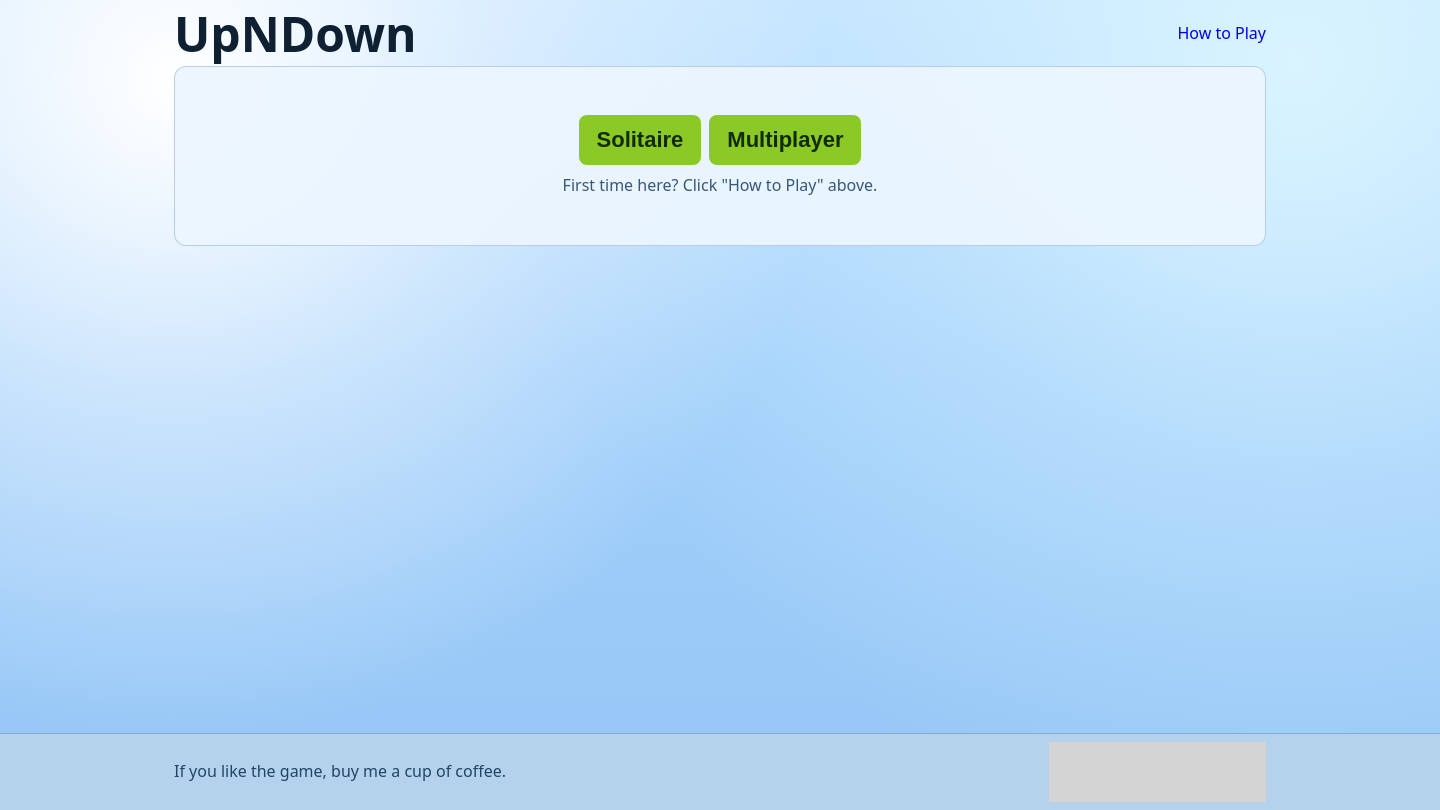
Scenario: multiplayer ack handling › shows host-ended modal and returns to landing only after acknowledgement
Click the button with test id "mode-multiplayer": coordinates (785, 140) [709, 115, 861, 165]
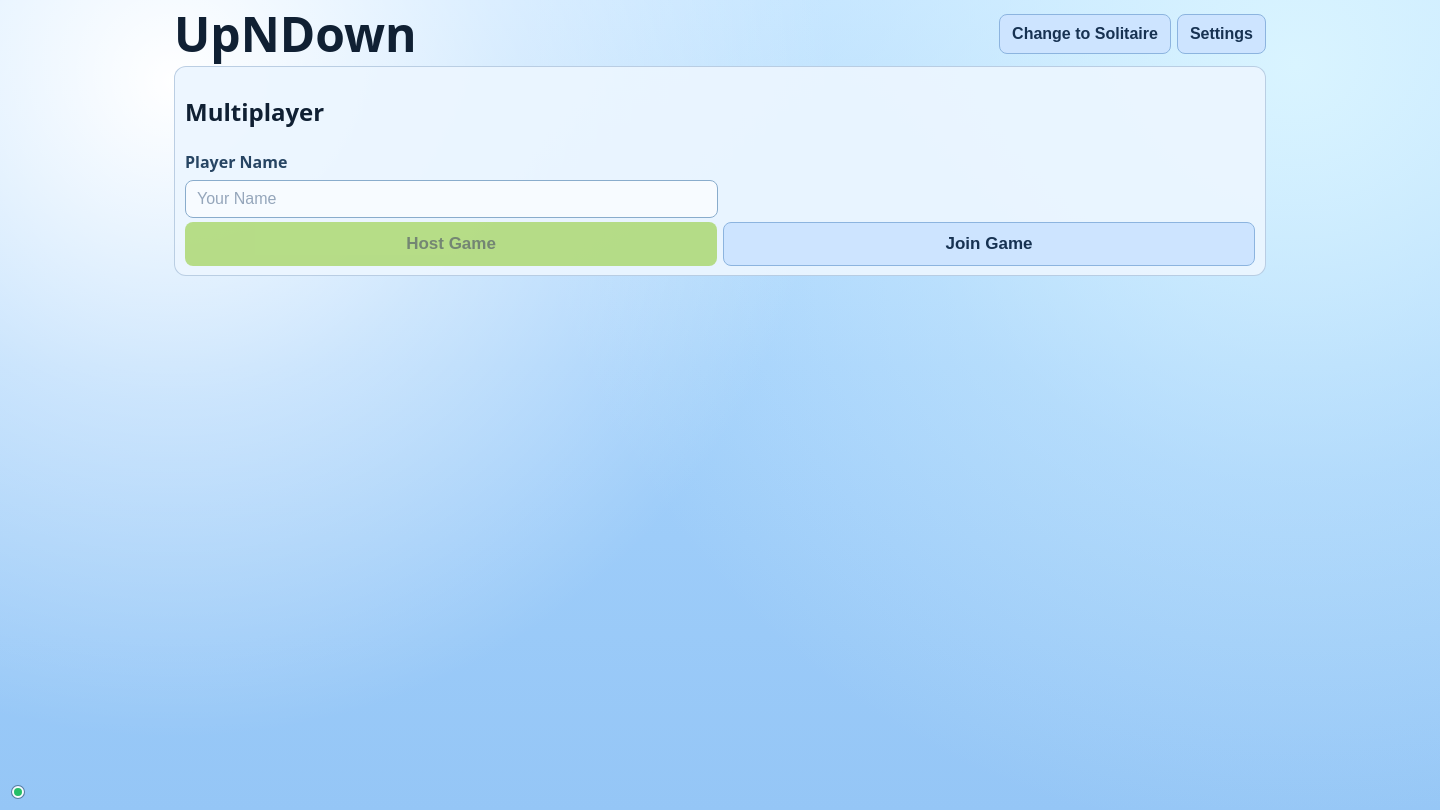
In the field labelled "Player Name": coordinates (452, 199) [185, 180, 718, 218], type "Alex"
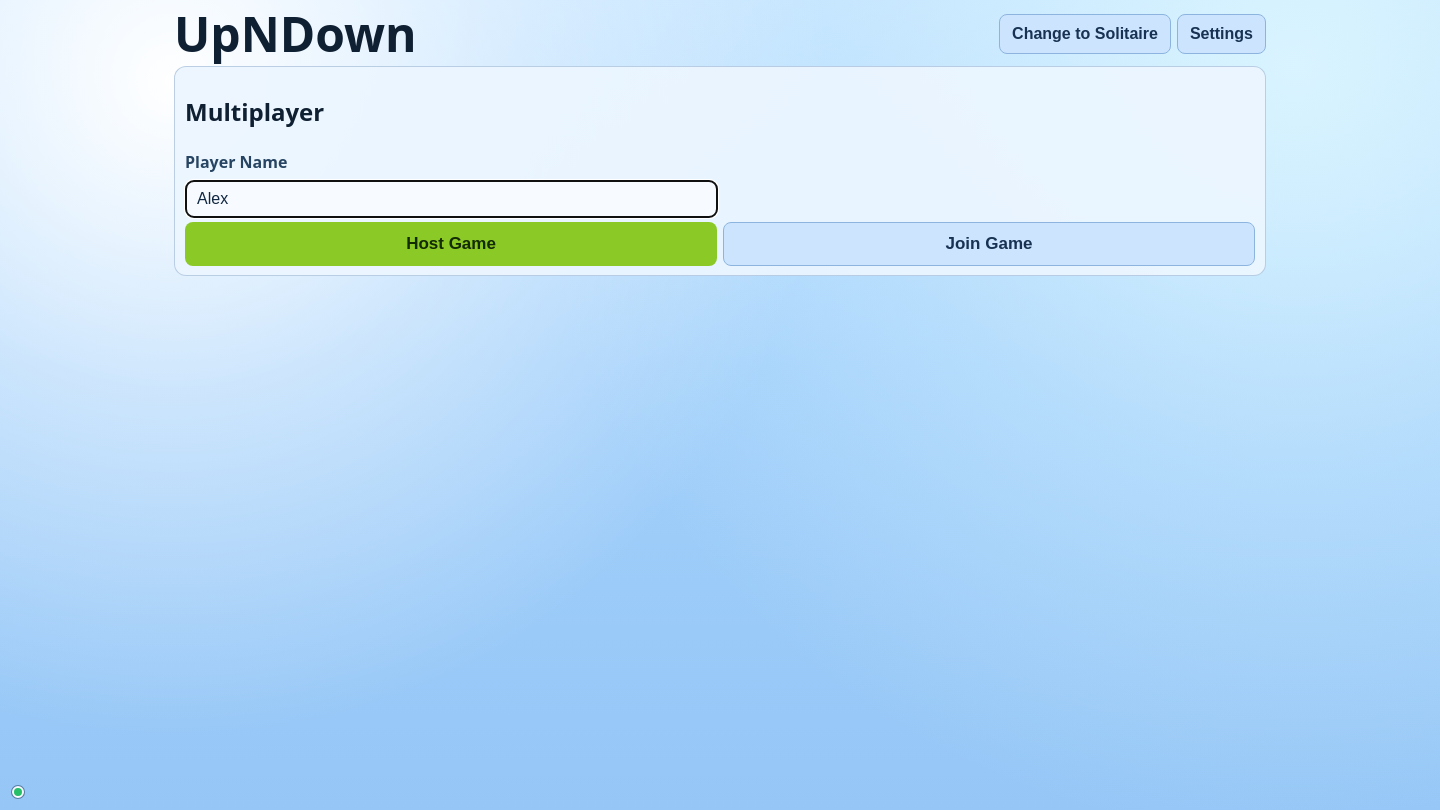
Click the button with test id "flow-host": coordinates (451, 244) [185, 222, 717, 266]
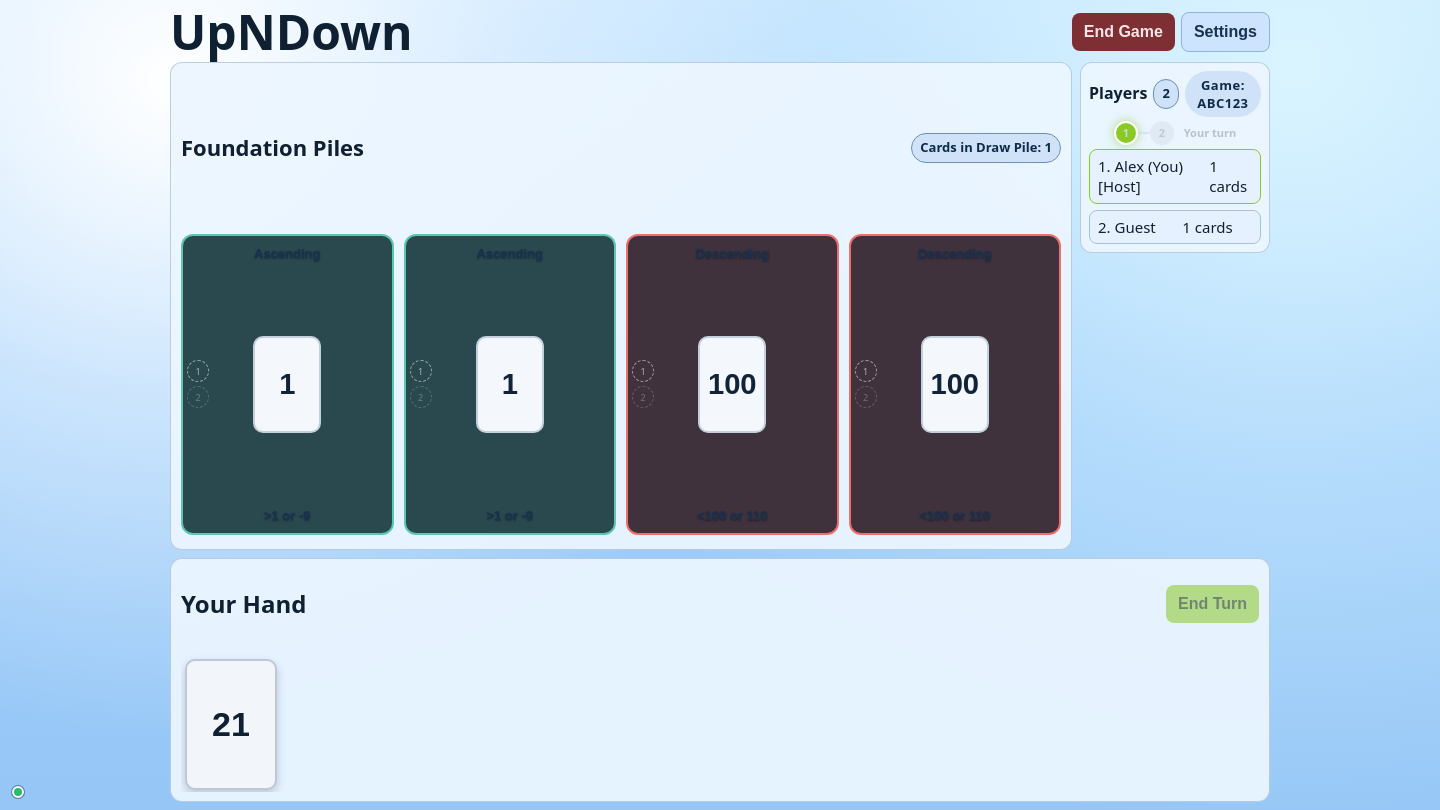
Expected: the button with test id "end-game-top" is shown
Click the button with test id "end-game-top": coordinates (1123, 32) [1072, 13, 1175, 51]
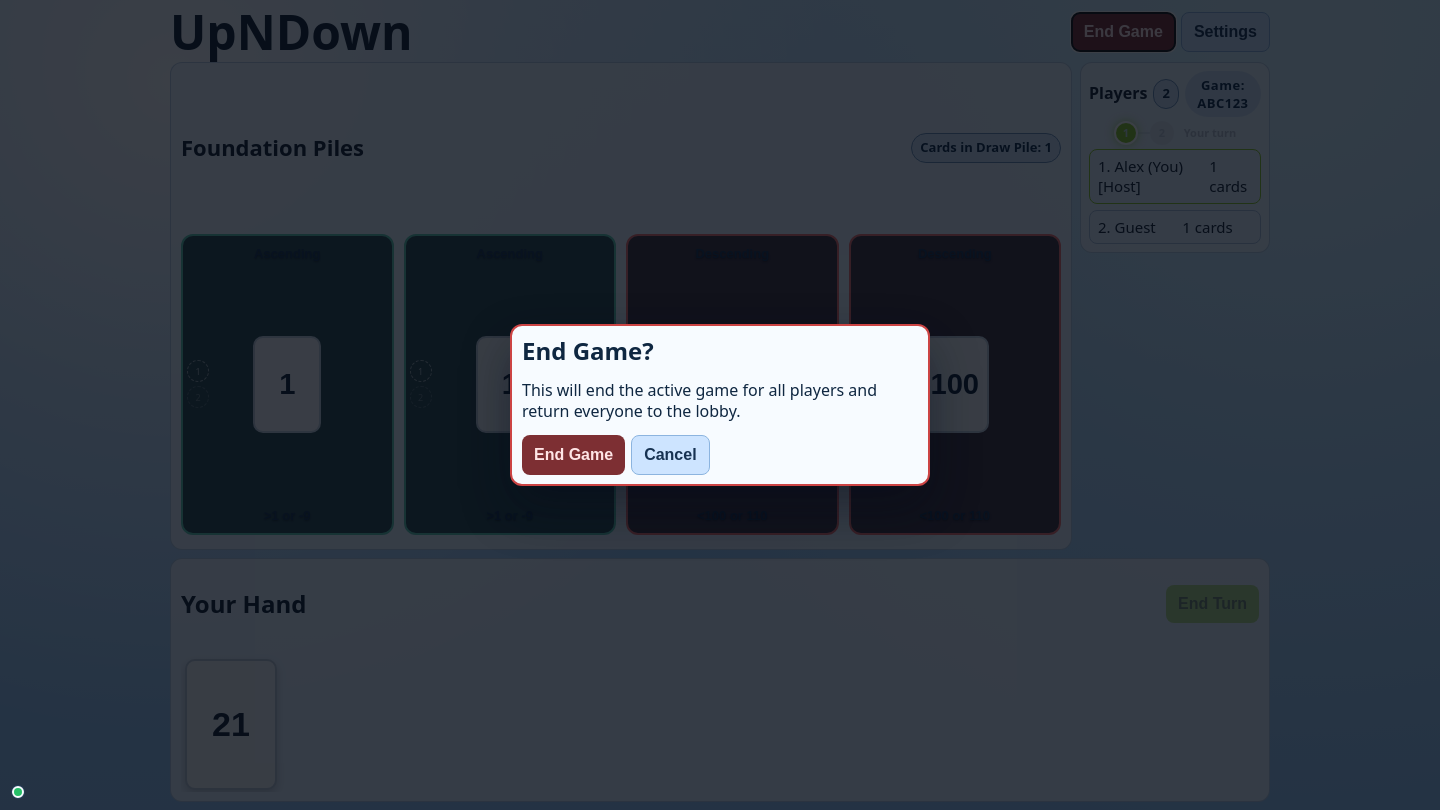
Expected: the dialog named "confirm end game" is shown, [510, 324, 930, 486]
Click the button "End Game": coordinates (574, 455) [522, 435, 625, 475]
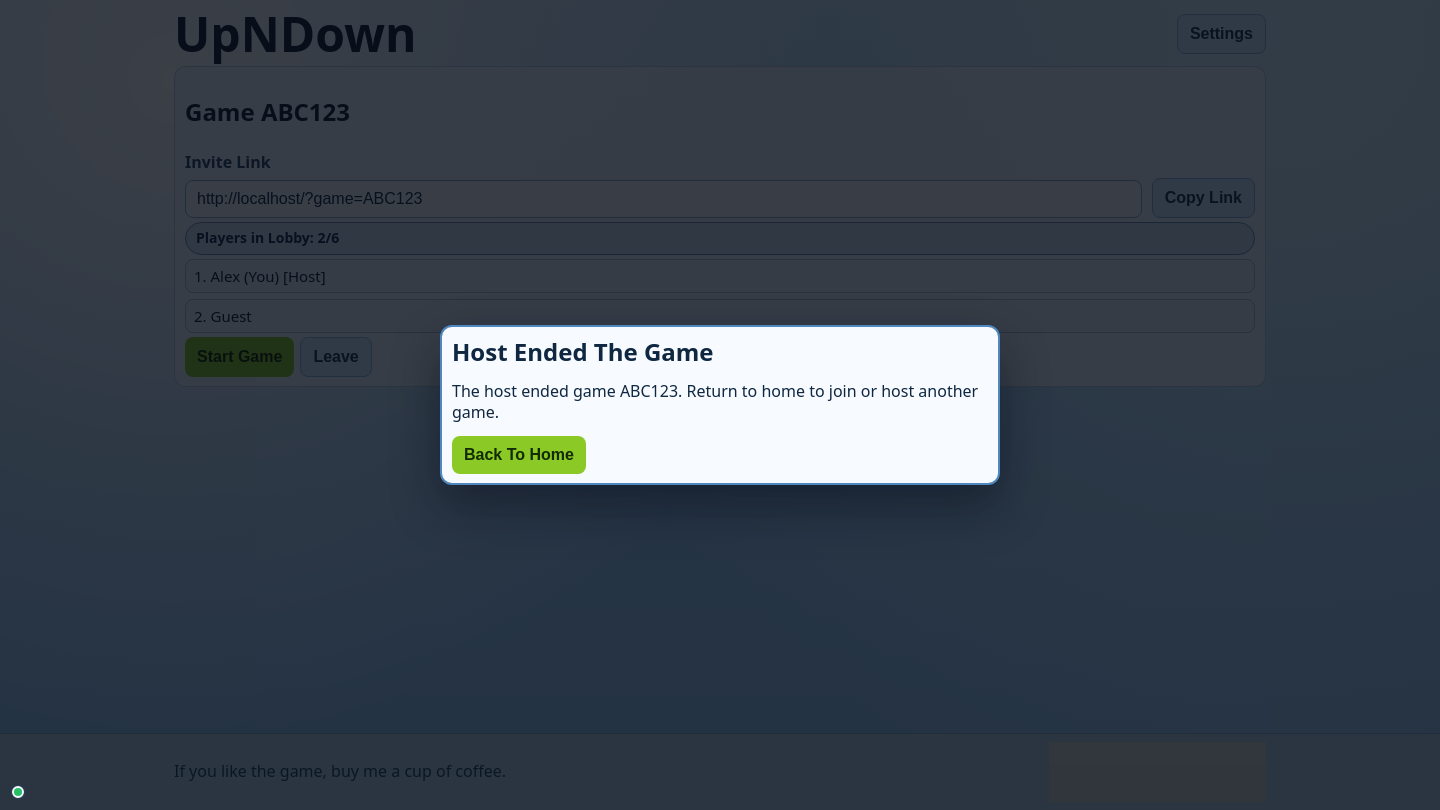
Expected: the dialog "Host Ended The Game" is shown, [440, 325, 1000, 485]
Click the button "Back To Home": coordinates (519, 455) [452, 436, 586, 474]
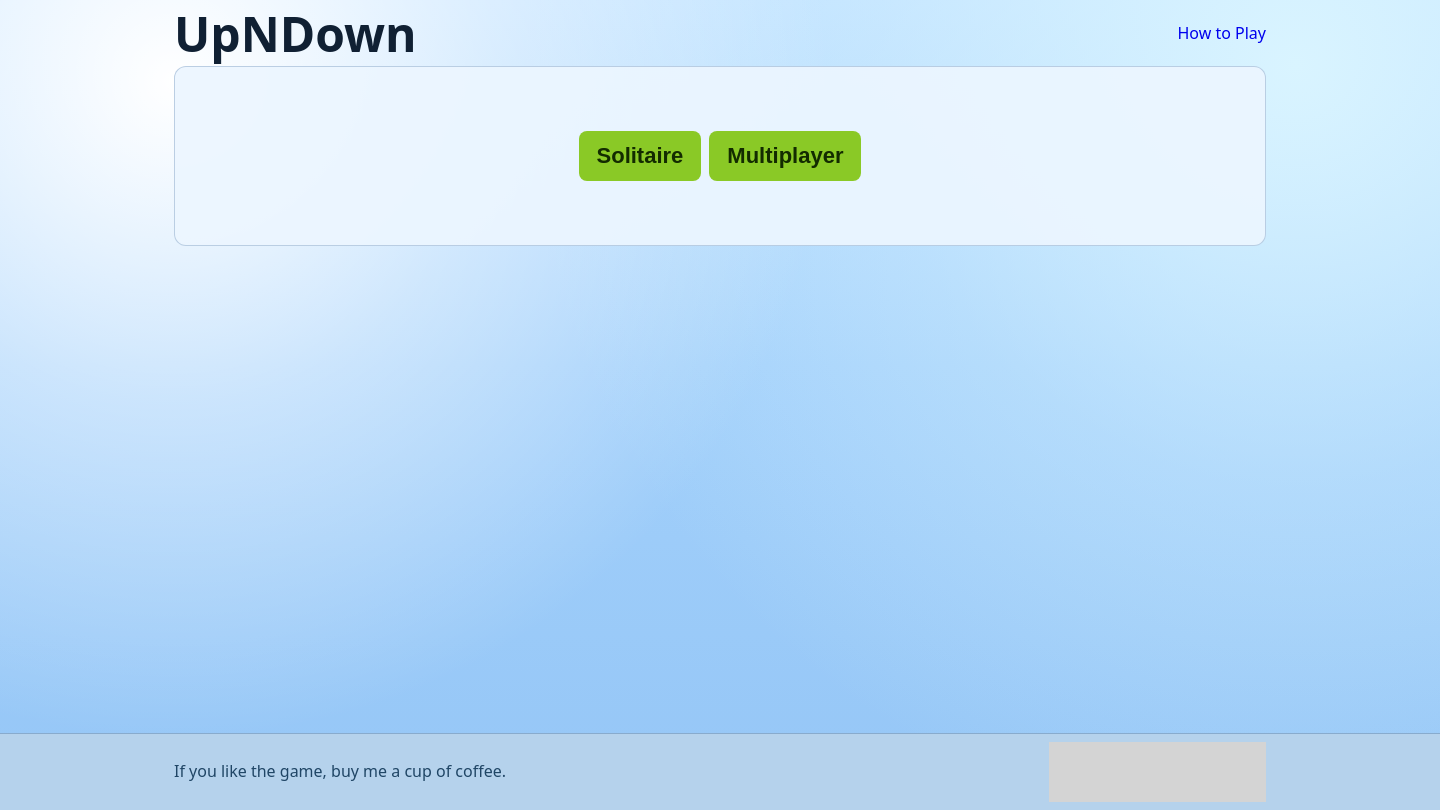
Expected: the button with test id "mode-solitaire" is shown, [578, 131, 701, 181]
